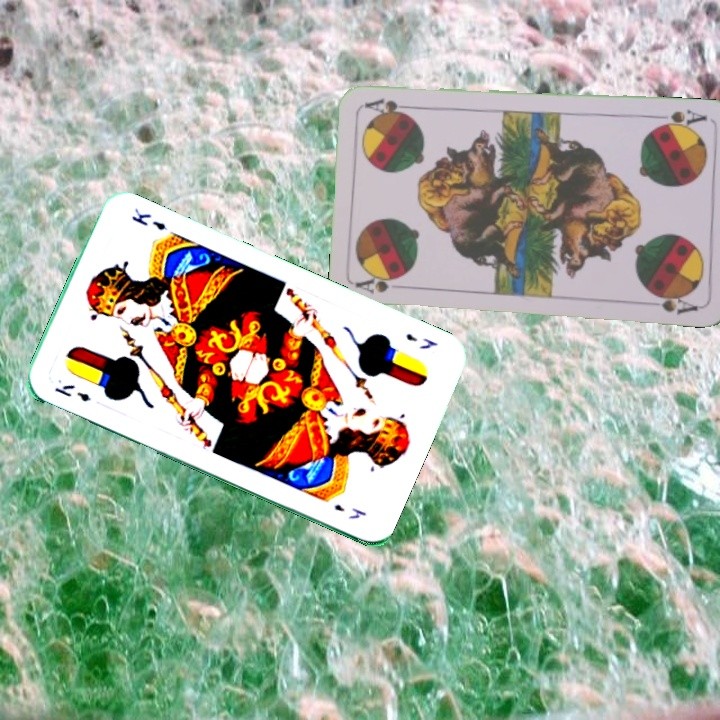EK: (51, 380, 94, 405), (402, 329, 440, 352)
SA: (652, 105, 710, 132), (353, 274, 412, 297)
